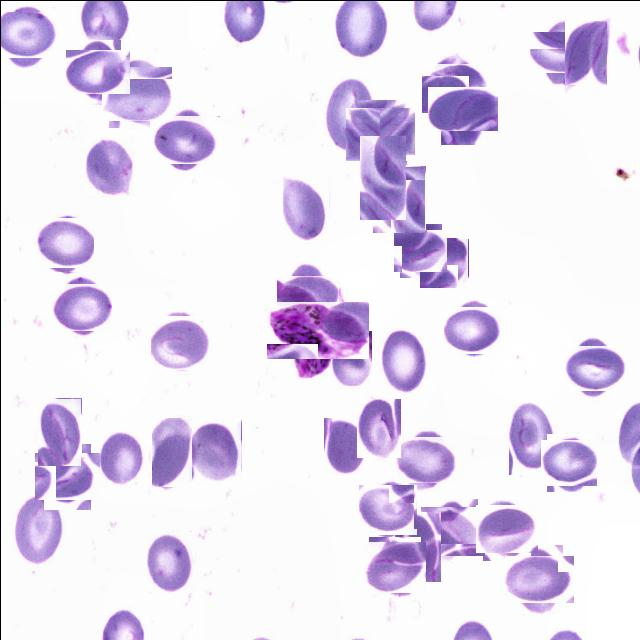difficult: (277, 289, 357, 369)
red blood cell: (322, 74, 374, 153), (359, 134, 406, 219), (105, 62, 167, 124), (349, 103, 410, 165), (11, 494, 63, 565), (154, 109, 214, 169), (372, 165, 425, 232), (508, 550, 568, 608), (508, 400, 554, 474), (152, 313, 210, 371), (424, 58, 482, 116), (282, 172, 328, 245), (188, 419, 241, 482), (378, 327, 426, 396), (434, 80, 491, 138), (424, 502, 481, 559), (394, 511, 440, 581), (38, 448, 95, 504), (366, 538, 422, 594), (566, 340, 622, 395), (478, 501, 534, 556), (148, 416, 192, 486), (54, 278, 108, 334), (37, 397, 81, 465), (146, 530, 194, 592), (70, 44, 124, 99), (446, 303, 501, 357), (360, 482, 414, 537), (0, 5, 52, 62), (83, 136, 133, 195), (398, 432, 452, 486), (38, 215, 92, 269), (534, 26, 586, 78), (543, 436, 595, 488), (564, 20, 606, 84), (282, 268, 332, 320), (356, 398, 400, 457), (96, 430, 144, 484), (418, 238, 468, 288), (323, 417, 366, 473), (330, 329, 372, 385), (396, 226, 444, 274)
